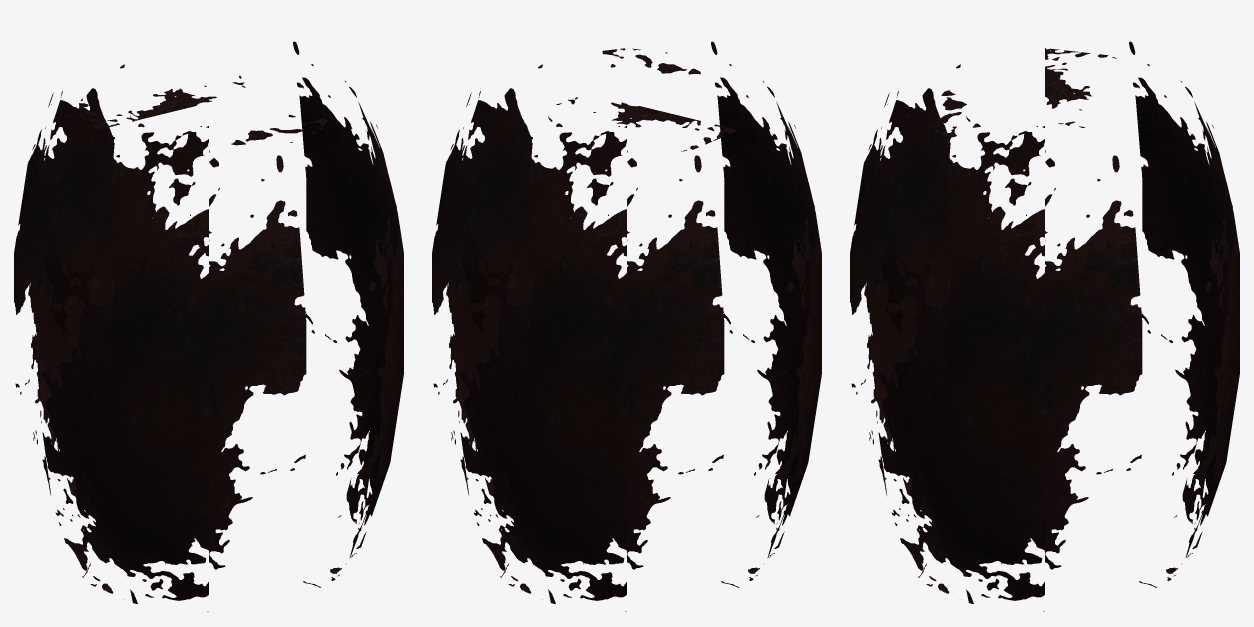
The model's file is barrel02.dae.
3 views of the same model, side by side, from view 1: azimuth 30°, elevation 25°; view 2: azimuth 150°, elevation 25°; view 3: azimuth 270°, elevation 25° (orthographic).
Parts seen in each view (by area): view 1: barrel_mesh; view 2: barrel_mesh; view 3: barrel_mesh.
Part boxes in pixels (bbox=[...]): barrel_mesh: bbox=[14, 41, 403, 611]; barrel_mesh: bbox=[432, 41, 821, 611]; barrel_mesh: bbox=[850, 41, 1239, 611].
Bounding box in the file's own units: 0.6805 × 0.9243 × 0.6805.
